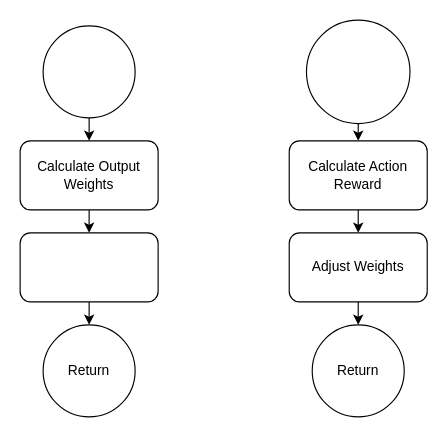
The diagram is 447 pixels wide and 437 high, and some of its shapes have lost their labels. Here are the shapes that lost their labels. From the top down, the box of each, then its label:
(42, 25, 135, 118): Brain::Update
(305, 19, 410, 124): Brain:: UpdateWeights
(19, 232, 158, 302): Activate Highest Action Neuron
